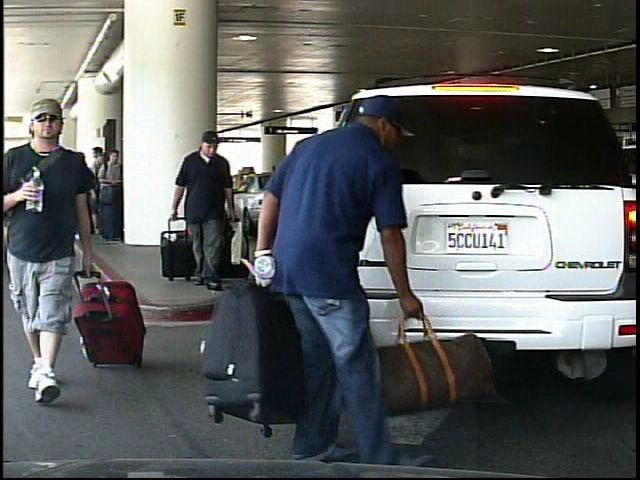person: (250, 76, 421, 469), (7, 97, 107, 407), (171, 129, 241, 289)
